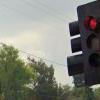traffic lights: (76, 3, 100, 87)
